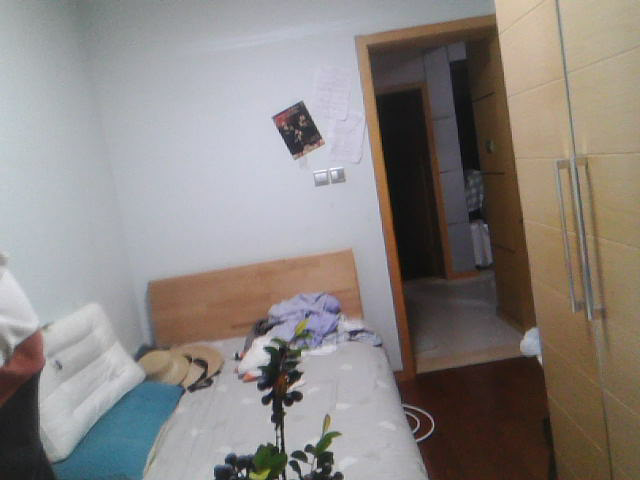blueberry: (260, 407, 285, 417), (253, 379, 270, 392), (289, 396, 306, 401)
